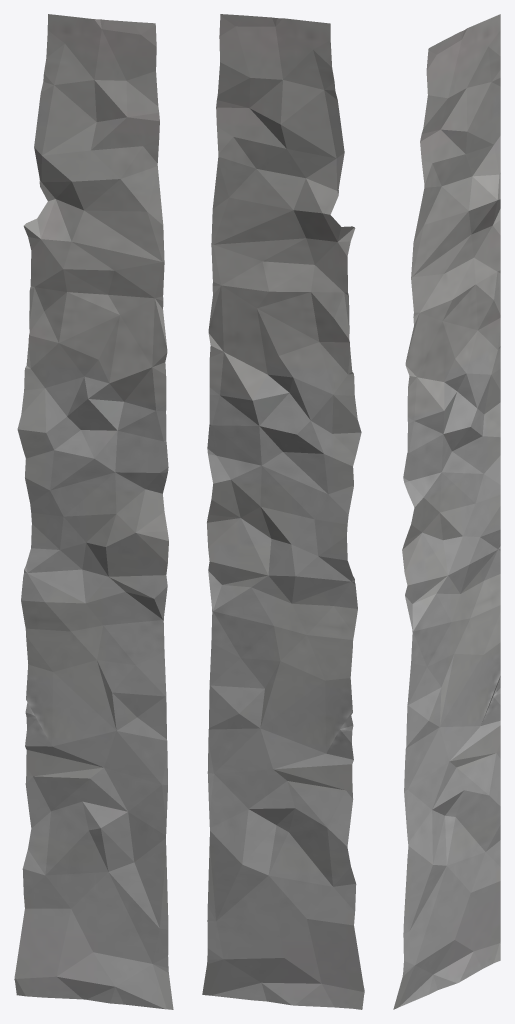
3 renders of one model, left to right at view 1: azimuth 30°, elevation 25°; view 2: azimuth 210°, elevation 25°; view 3: azimuth 270°, elevation 25°, orthographic. The views are drawn at different scales.
Size of the model in its own units: 0.0943 by 0.8374 by 0.0847.
Materials: 1 (1 with a texture image).
